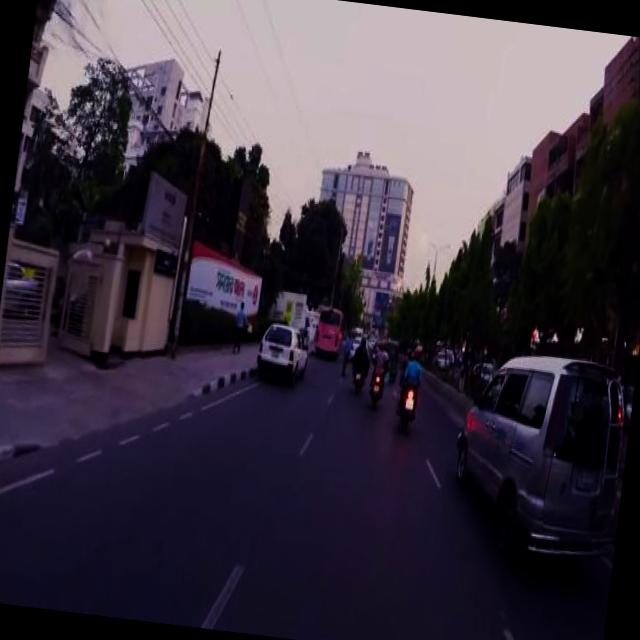bus: (312, 301, 346, 350)
car: (254, 317, 310, 375), (469, 358, 504, 384), (348, 330, 360, 354), (434, 348, 450, 363), (365, 332, 377, 348)
motorcycle: (392, 368, 420, 426), (366, 352, 386, 403), (380, 332, 400, 376), (350, 354, 367, 391)
truck: (442, 339, 630, 556)
